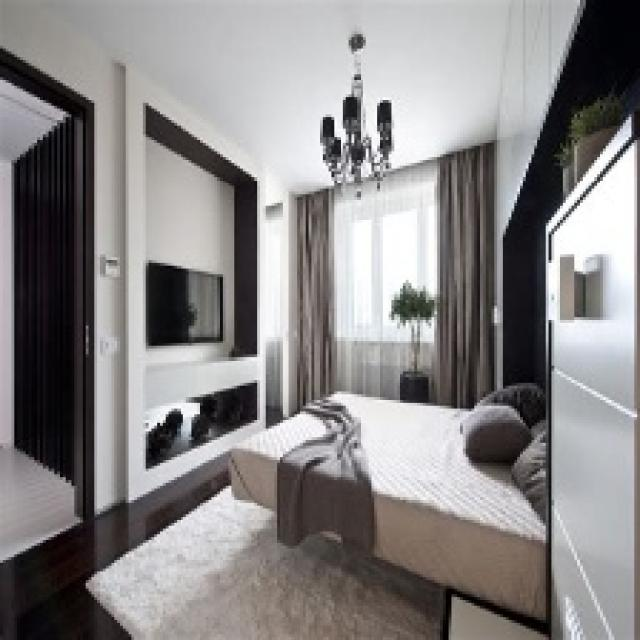Bed: (228, 386, 552, 637)
